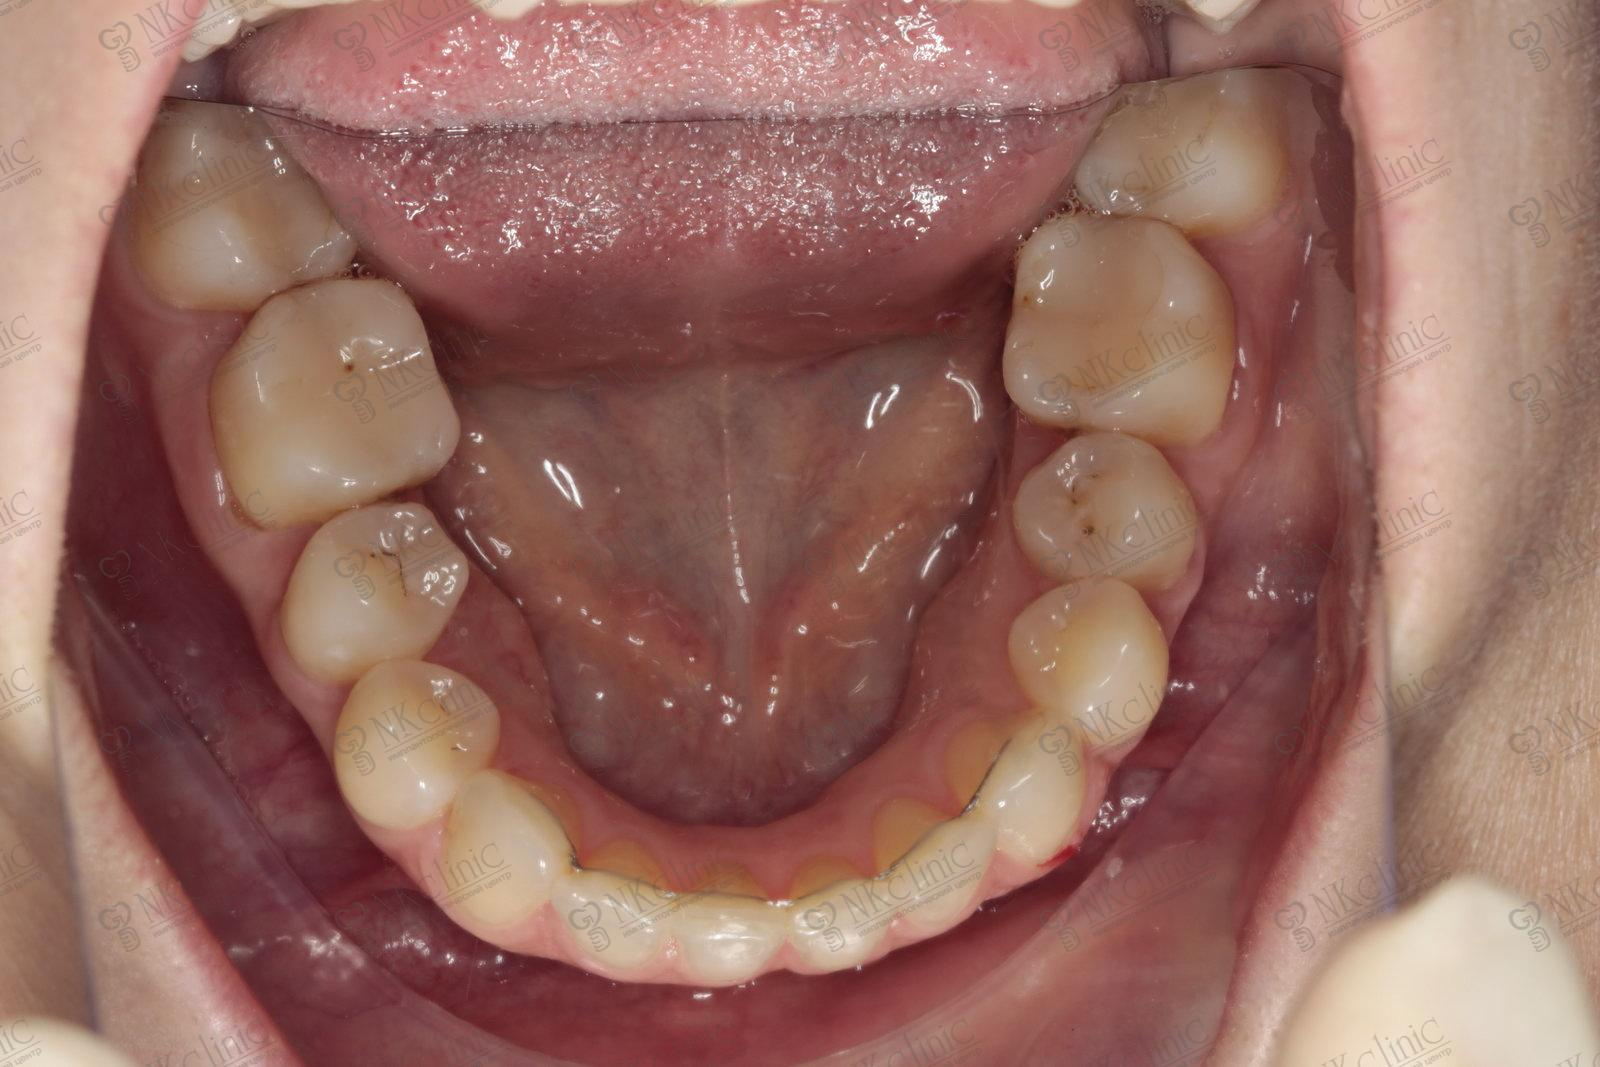LL1BC_healthy: (999, 579, 1171, 753)
LL1M_healthy: (1005, 219, 1250, 439)
LL2BC_decay: (1010, 433, 1214, 600)
LL2M_decay: (1079, 85, 1310, 229)
LLCI_decay: (790, 855, 894, 972)
LLC_decay: (942, 709, 1090, 862)
LLLI_decay: (857, 795, 993, 930)
LR1BC_healthy: (340, 659, 508, 828)
LR1M_decay: (206, 264, 452, 537)
LR2BC_decay: (277, 497, 471, 678)
LR2M_healthy: (110, 105, 335, 322)
LRCI_decay: (677, 863, 790, 996)
LRC_decay: (444, 774, 587, 921)
LRLI_decay: (563, 826, 676, 965)
